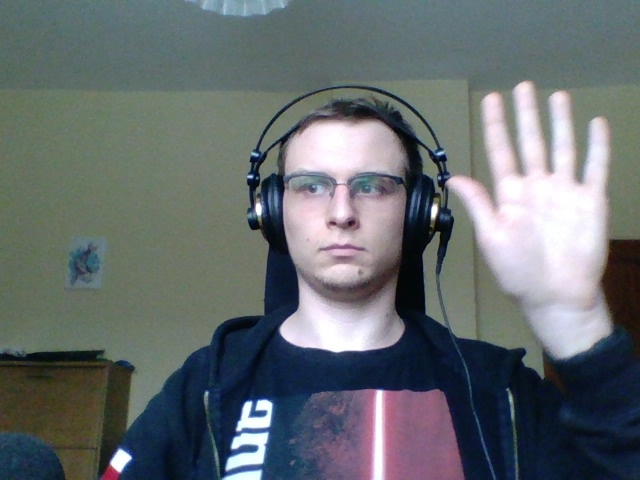hello: (439, 78, 621, 364)
